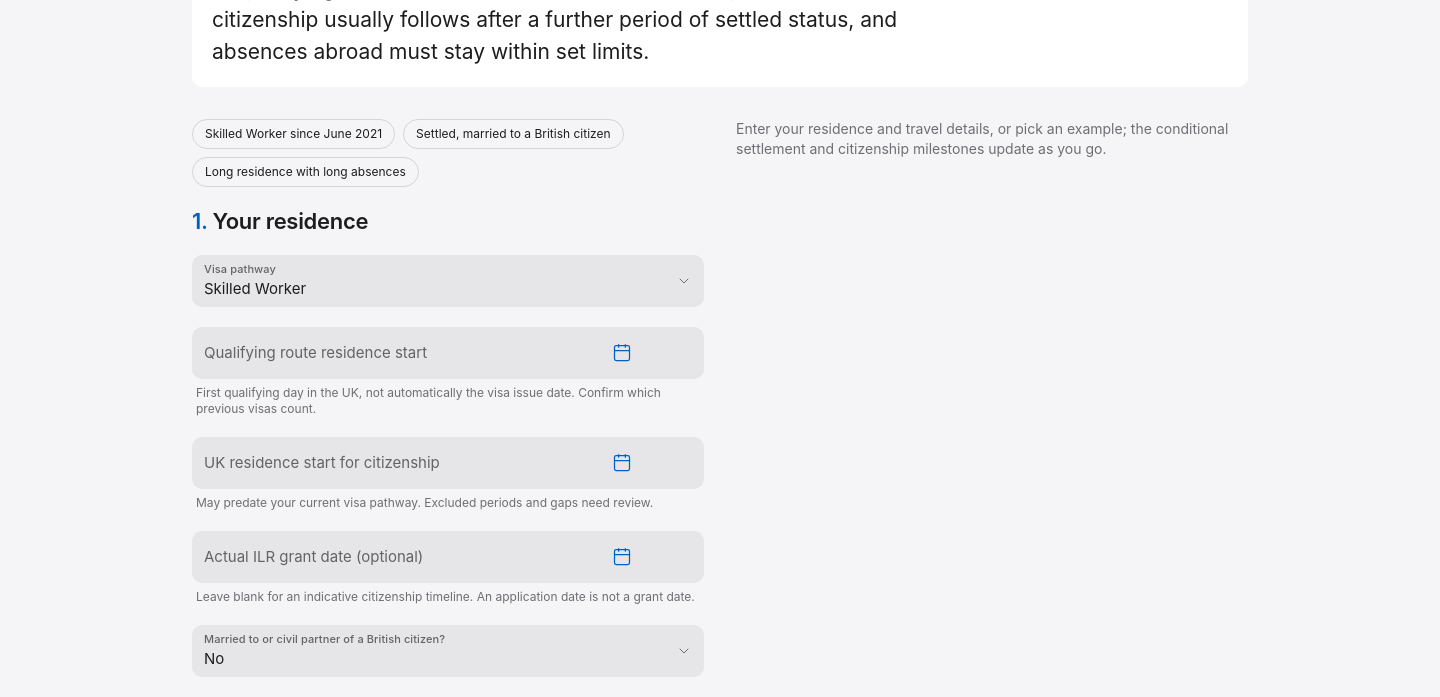
it: public ILR and citizenship checker › calculates locally, updates the citizenship basis live and resets answers
The image size is (1440, 697).
(page scrolled)
Type "2021-06-20" into the field labelled "Qualifying route residence start".
click(398, 353); type("2021-06-20")  # box [204,327,592,379]
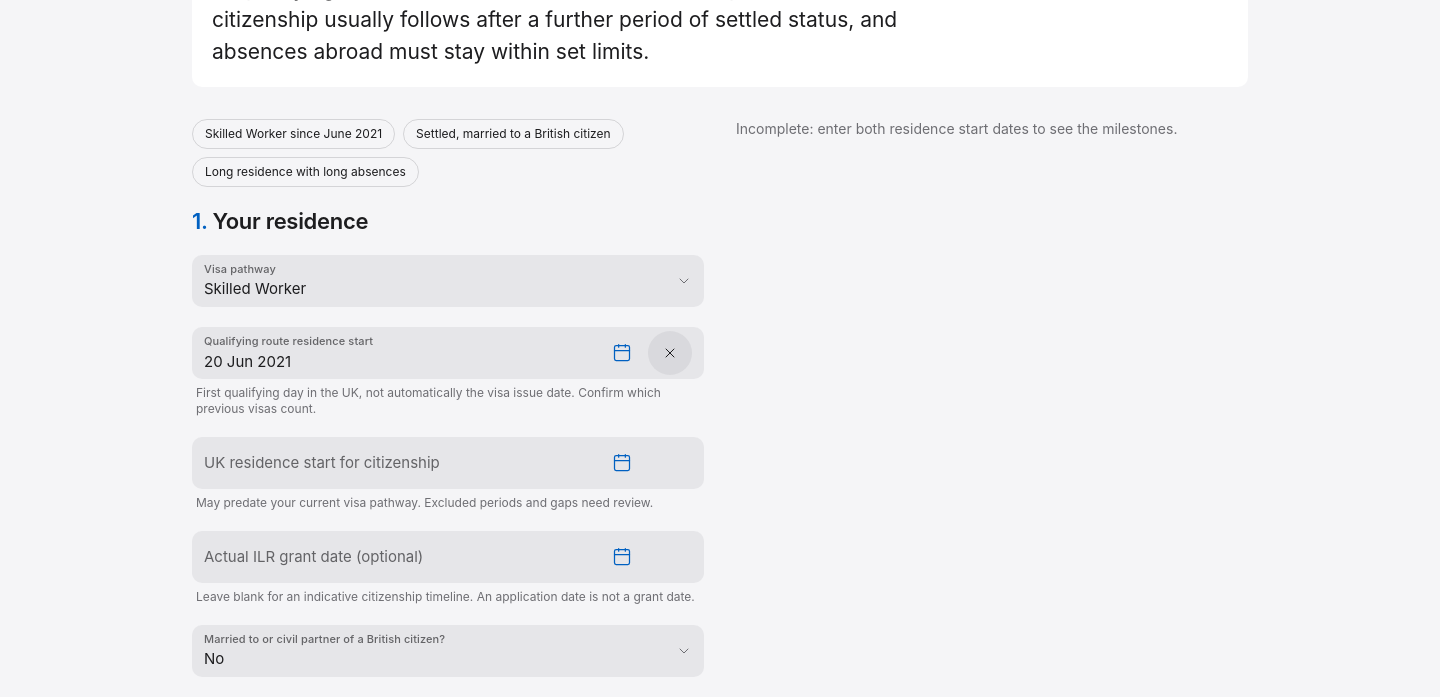
Type "2021-06-20" into the field labelled "UK residence start for citizenship".
click(398, 463); type("2021-06-20")  # box [204,437,592,489]
Leave the field labelled "UK residence start for citizenship", box [204,437,592,489]
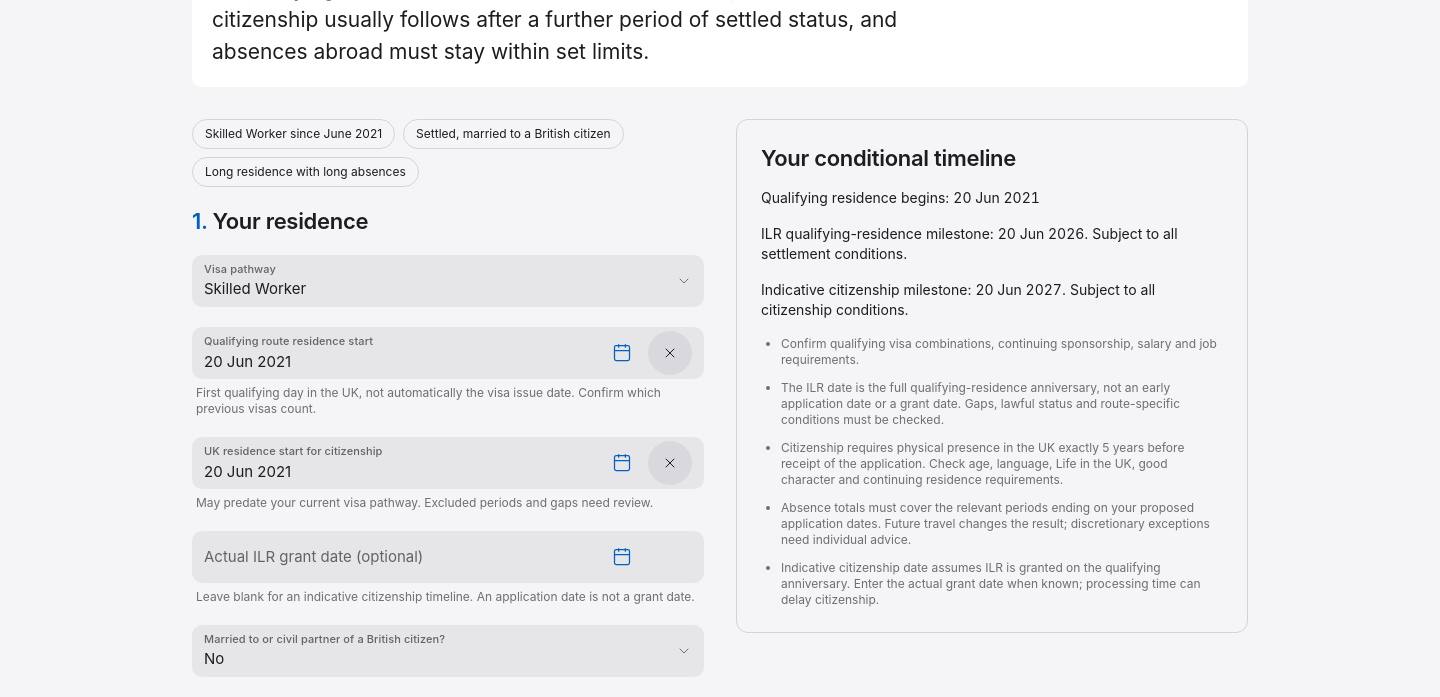
Result: the element named "Settlement timeline result" shows "20 Jun 2027" at [975,281,1062,298]
Result: the element named "Settlement timeline result" shows "Indicative citizenship" at [761,281,967,298]
Select "Yes" in the dropdown labelled "Married to or civil partner of a British citizen?" at (448, 651), box [192,625,704,677]
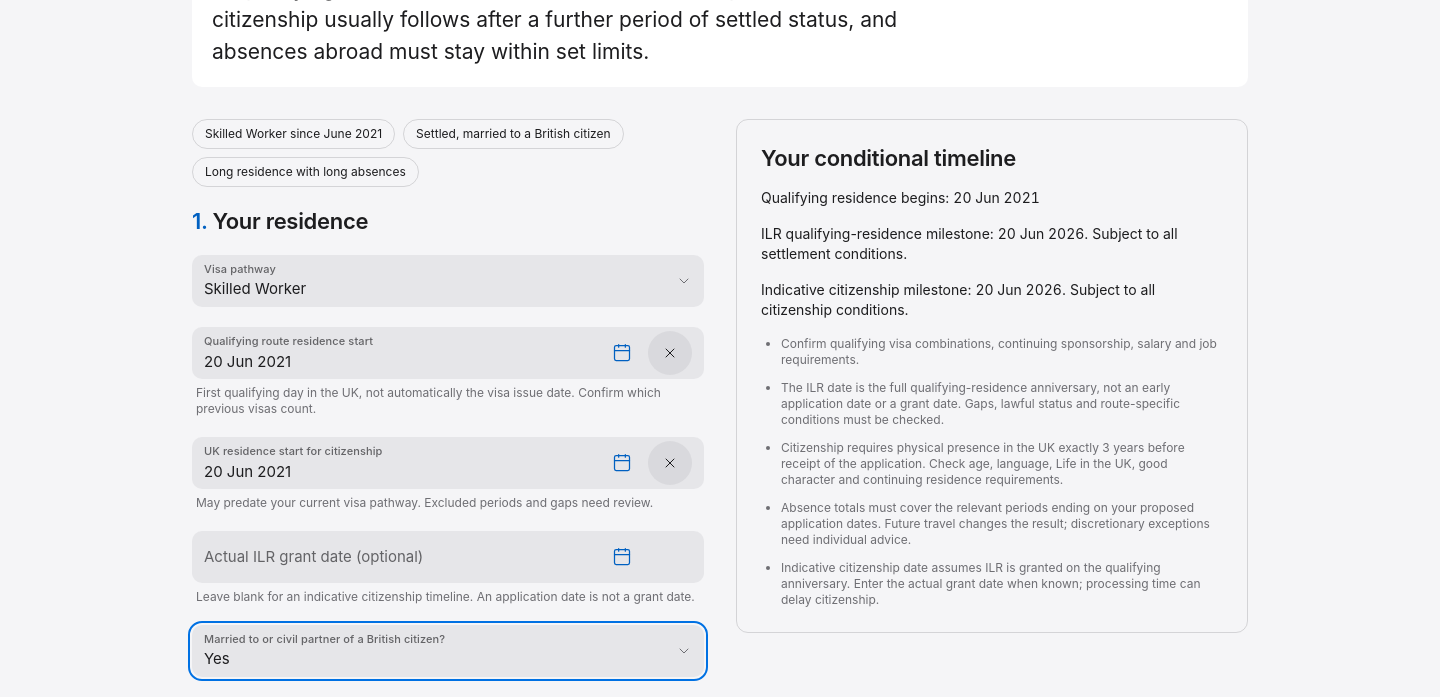
Type "2026-11-15" into the field labelled "Actual ILR grant date (optional)".
click(398, 557); type("2026-11-15")  # box [204,531,592,583]
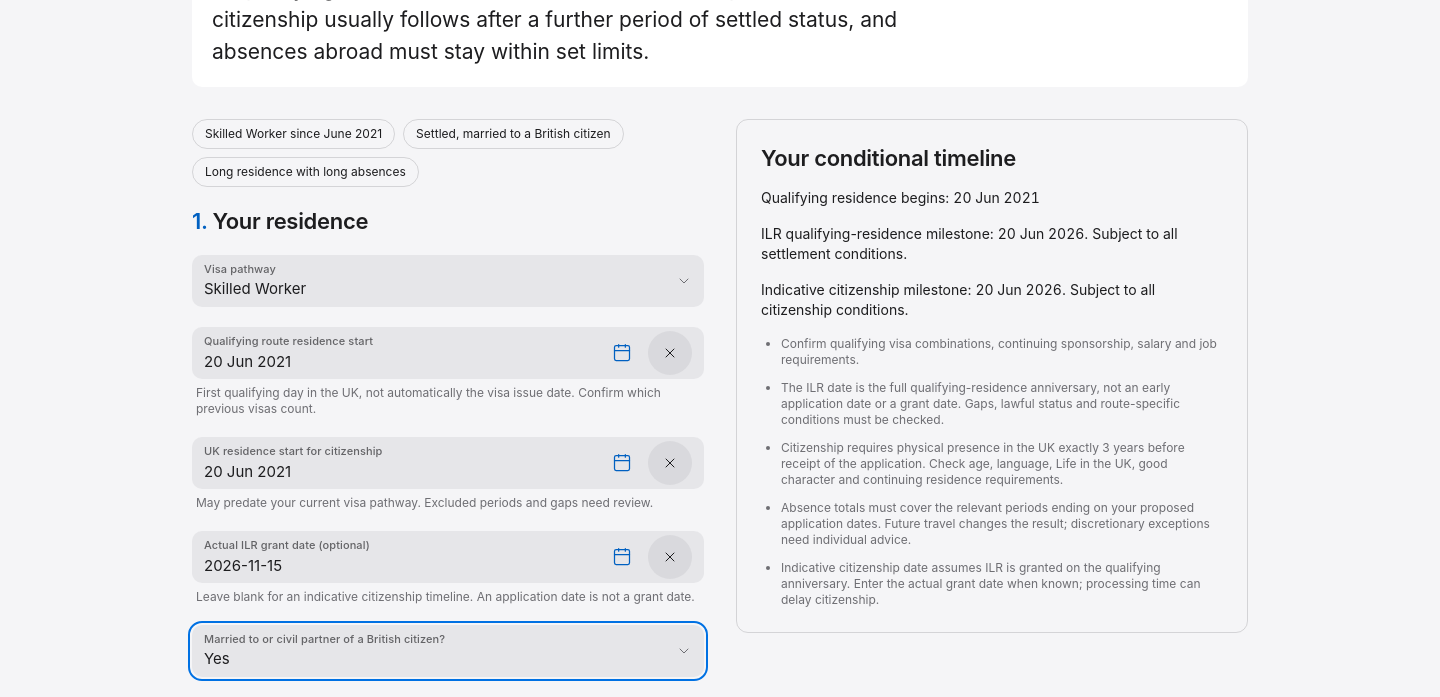
Leave the field labelled "Actual ILR grant date (optional)", box [204,531,592,583]
(page scrolled)
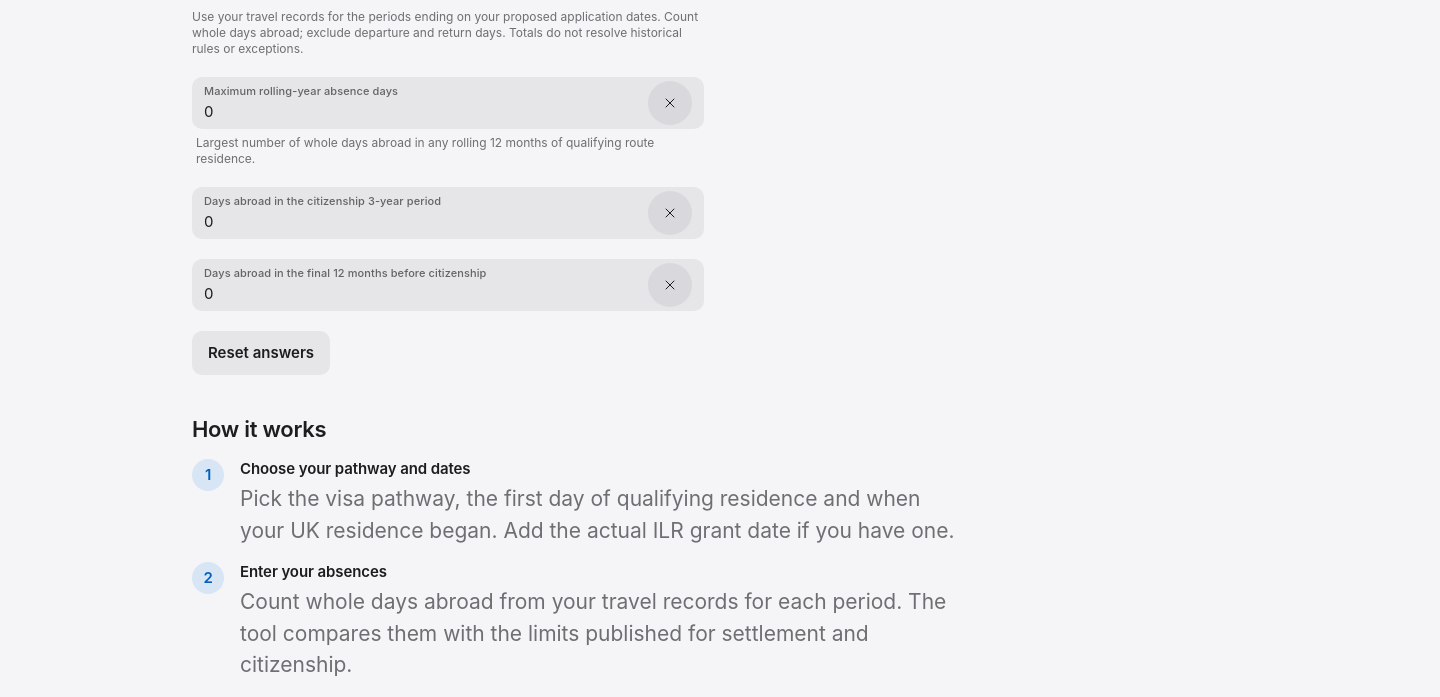
Click the button "Reset answers".
click(261, 353)  # box [192,331,330,375]
(page scrolled)
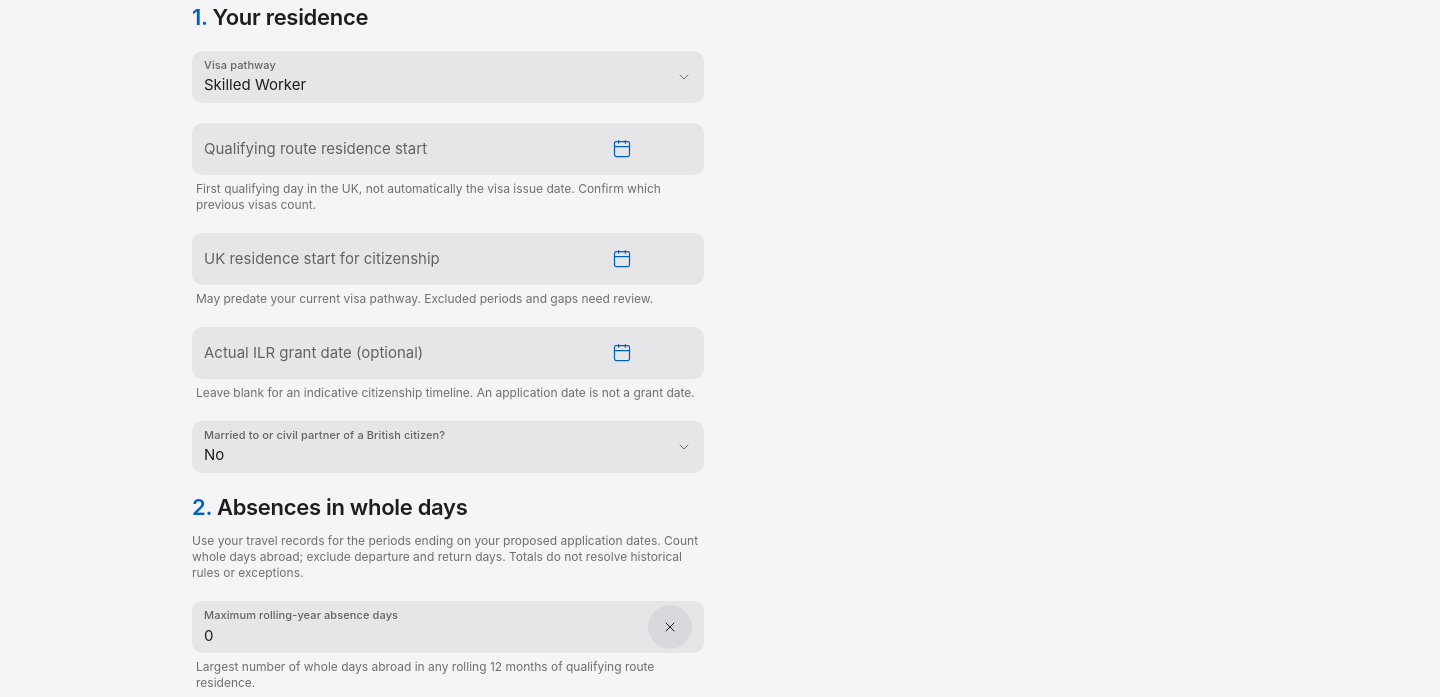
Result: the field labelled "Qualifying route residence start" is empty at [204,123,592,175]
Result: the field labelled "Actual ILR grant date (optional)" is empty at [204,327,592,379]
